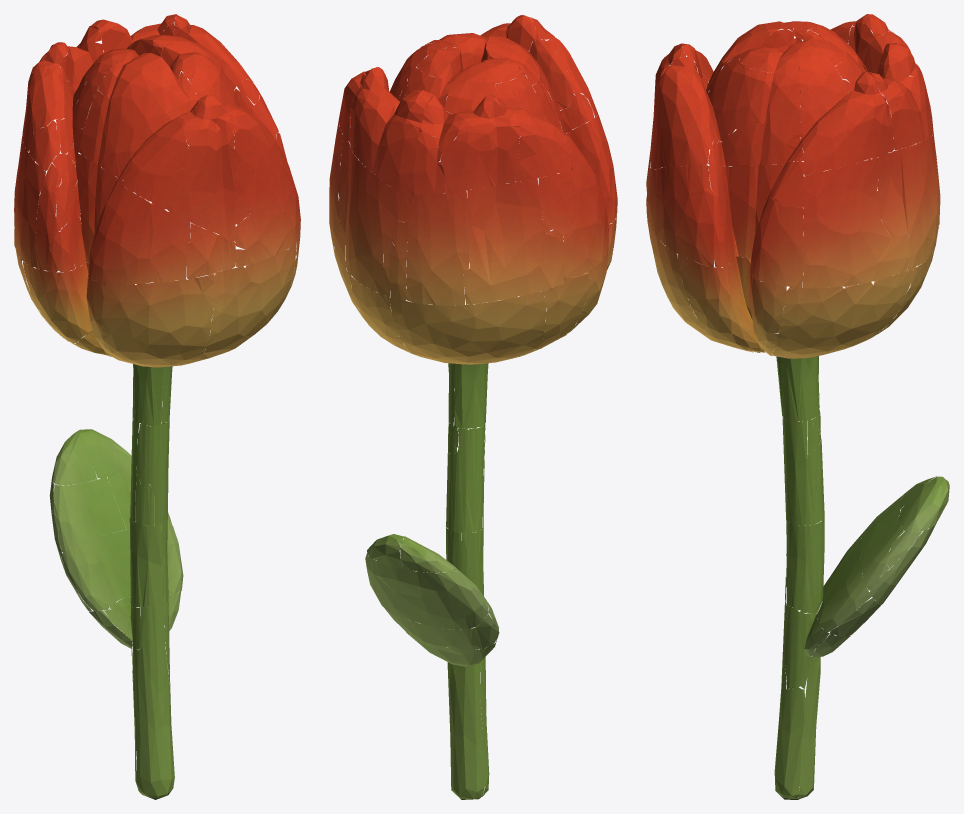
Rendered from flor_09_tulipan.glb.
3 views of the same model, side by side, from view 1: azimuth 30°, elevation 25°; view 2: azimuth 150°, elevation 25°; view 3: azimuth 270°, elevation 25° (orthographic).
Visible parts, largest first — view 1: tripo_node_a1a8d9bc-06dd-466a-be11-034b21fd983f; view 2: tripo_node_a1a8d9bc-06dd-466a-be11-034b21fd983f; view 3: tripo_node_a1a8d9bc-06dd-466a-be11-034b21fd983f.
Boxes of the visible parts, x1=… form: tripo_node_a1a8d9bc-06dd-466a-be11-034b21fd983f: x1=14, y1=14, x2=300, y2=799; tripo_node_a1a8d9bc-06dd-466a-be11-034b21fd983f: x1=329, y1=15, x2=617, y2=799; tripo_node_a1a8d9bc-06dd-466a-be11-034b21fd983f: x1=646, y1=14, x2=949, y2=799.
Bounding box in the file's own units: 0.348 × 0.9821 × 0.354.
Materials: 1 (1 with a texture image).
